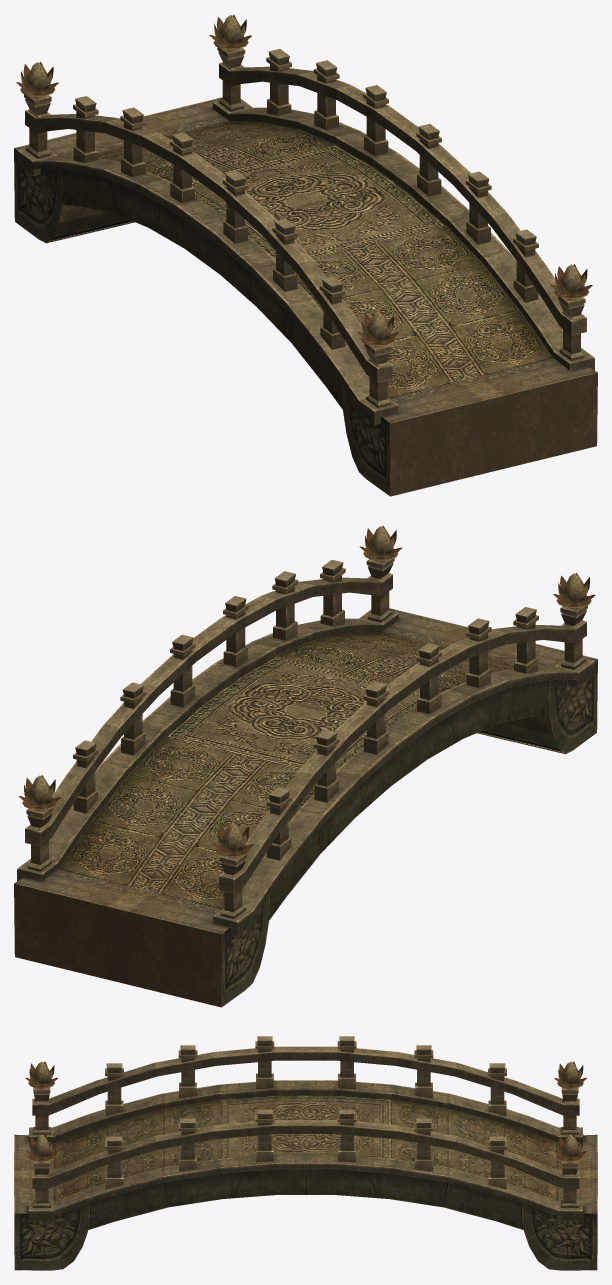
File: 4st_bridge_001.fbx
3 views of the same model, one above another, from view 1: azimuth 30°, elevation 25°; view 2: azimuth 150°, elevation 25°; view 3: azimuth 270°, elevation 25° (orthographic). The views are drawn at different scales.
Parts seen in each view (by area): view 1: 4st_bridge_001; view 2: 4st_bridge_001; view 3: 4st_bridge_001.
Part boxes in pixels (x1=…): 4st_bridge_001: x1=14, y1=15, x2=597, y2=496; 4st_bridge_001: x1=14, y1=525, x2=597, y2=1007; 4st_bridge_001: x1=14, y1=1036, x2=597, y2=1270.
Size of the model in its own units: 9.88 by 8.37 by 28.35.
